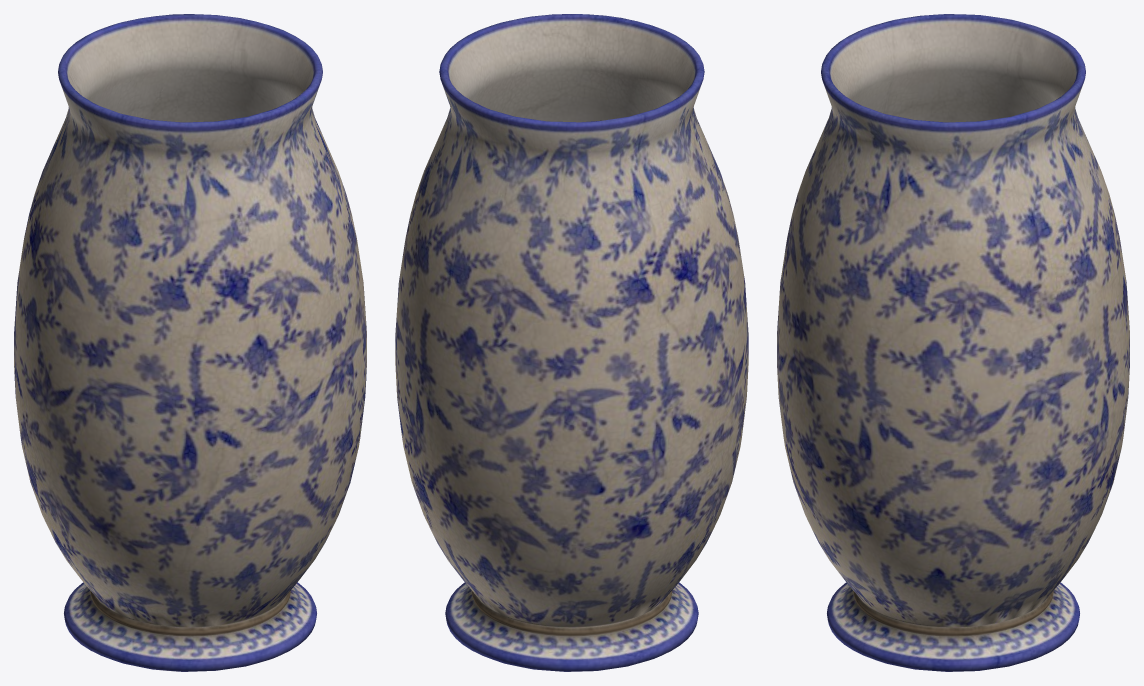
File: antique_ceramic_vase_01.glb
3 renders of one model, left to right at view 1: azimuth 30°, elevation 25°; view 2: azimuth 150°, elevation 25°; view 3: azimuth 270°, elevation 25°, orthographic.
Parts seen in each view (by area): view 1: antique_ceramic_vase_01; view 2: antique_ceramic_vase_01; view 3: antique_ceramic_vase_01.
Boxes of the visible parts, <box> form: antique_ceramic_vase_01: <box>14,14,366,671</box>; antique_ceramic_vase_01: <box>395,14,748,671</box>; antique_ceramic_vase_01: <box>777,14,1129,671</box>.
Size of the model in its own units: 0.9276 by 1.6 by 0.9276.
Materials: 1 (1 with a texture image).
